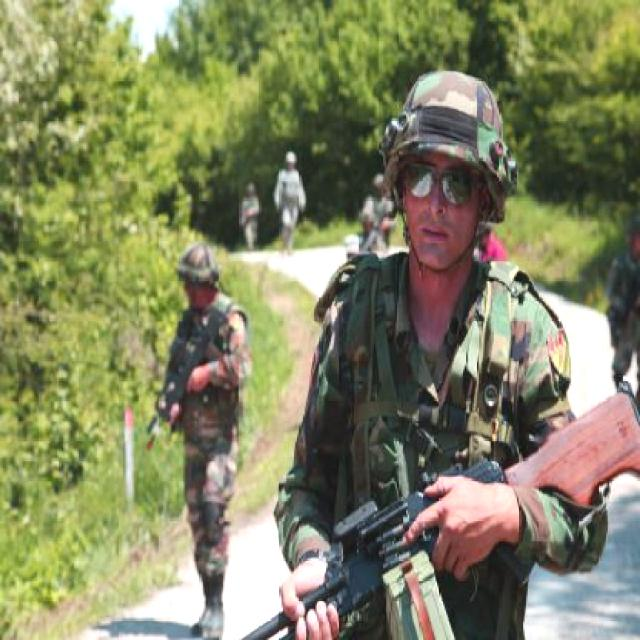face_nomask: (402, 158, 482, 254)
glasses: (403, 160, 485, 209)
hand_noglove: (400, 476, 514, 590), (272, 557, 352, 640), (182, 366, 210, 396)
head_helmet: (381, 68, 524, 178), (178, 238, 227, 290)
person: (272, 72, 559, 640), (150, 243, 252, 640), (276, 143, 307, 265)
